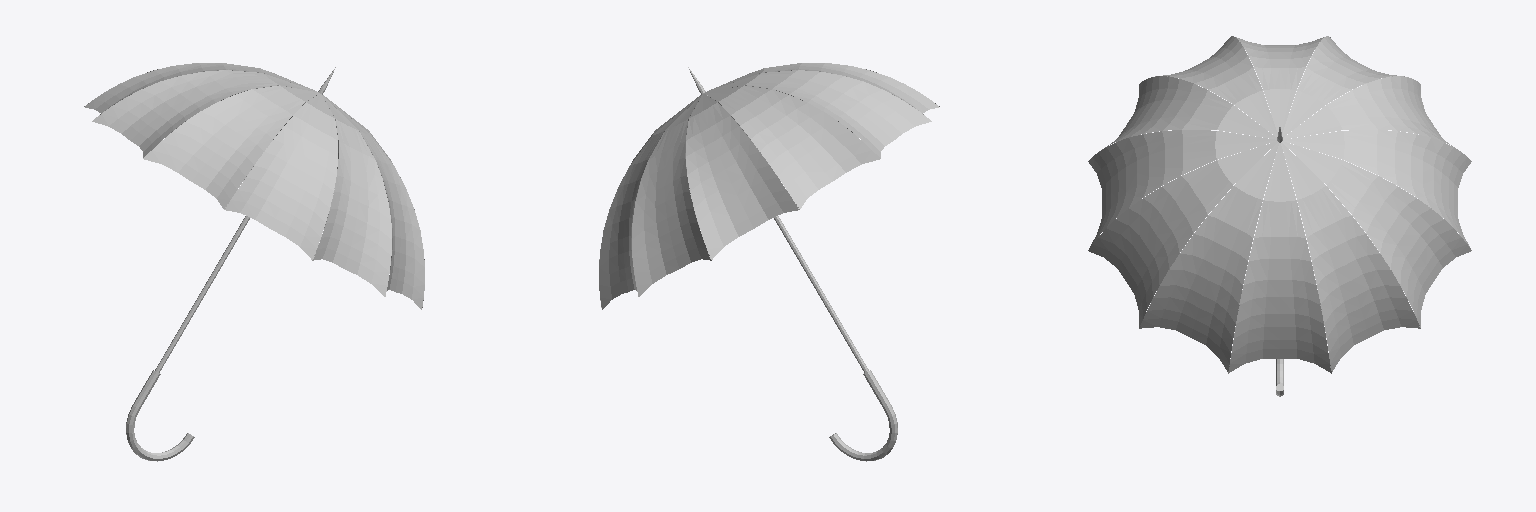
The model's file is Guarda chuva.obj.
The picture shows the model from 3 angles: view 1: azimuth 30°, elevation 25°; view 2: azimuth 150°, elevation 25°; view 3: azimuth 270°, elevation 25°; orthographic projection.
Parts seen in each view (by area): view 1: Mesh13 Paraguas32_dwg1 Component_6_1 Model, Mesh12 Paraguas32_dwg1 Component_6_1 Model, Mesh14 Paraguas32_dwg1 Component_6_1 Model, Mesh11 Paraguas32_dwg1 Component_6_1 Model, Mesh3 Paraguas32_dwg1 Component_6_1 Model, Mesh10 Paraguas32_dwg1 Component_6_1 Model, Mesh1 Paraguas32_dwg1 Component_6_1 Model, Mesh2 Paraguas32_dwg1 Component_6_1 Model; view 2: Mesh9 Paraguas32_dwg1 Component_6_1 Model, Mesh10 Paraguas32_dwg1 Component_6_1 Model, Mesh8 Paraguas32_dwg1 Component_6_1 Model, Mesh11 Paraguas32_dwg1 Component_6_1 Model, Mesh7 Paraguas32_dwg1 Component_6_1 Model, Mesh12 Paraguas32_dwg1 Component_6_1 Model, Mesh1 Paraguas32_dwg1 Component_6_1 Model, Mesh2 Paraguas32_dwg1 Component_6_1 Model; view 3: Mesh5 Paraguas32_dwg1 Component_6_1 Model, Mesh6 Paraguas32_dwg1 Component_6_1 Model, Mesh4 Paraguas32_dwg1 Component_6_1 Model, Mesh3 Paraguas32_dwg1 Component_6_1 Model, Mesh7 Paraguas32_dwg1 Component_6_1 Model, Mesh14 Paraguas32_dwg1 Component_6_1 Model, Mesh8 Paraguas32_dwg1 Component_6_1 Model, Mesh9 Paraguas32_dwg1 Component_6_1 Model, Mesh13 Paraguas32_dwg1 Component_6_1 Model, Mesh10 Paraguas32_dwg1 Component_6_1 Model, Mesh12 Paraguas32_dwg1 Component_6_1 Model, Mesh11 Paraguas32_dwg1 Component_6_1 Model.
Boxes of the visible parts, x1,y1,x2,y2 form: Mesh13 Paraguas32_dwg1 Component_6_1 Model: [224, 94, 337, 259]; Mesh12 Paraguas32_dwg1 Component_6_1 Model: [143, 85, 319, 208]; Mesh14 Paraguas32_dwg1 Component_6_1 Model: [312, 95, 391, 296]; Mesh11 Paraguas32_dwg1 Component_6_1 Model: [92, 70, 318, 157]; Mesh3 Paraguas32_dwg1 Component_6_1 Model: [323, 95, 424, 309]; Mesh10 Paraguas32_dwg1 Component_6_1 Model: [85, 63, 314, 114]; Mesh1 Paraguas32_dwg1 Component_6_1 Model: [126, 370, 194, 461]; Mesh2 Paraguas32_dwg1 Component_6_1 Model: [155, 67, 335, 372]; Mesh9 Paraguas32_dwg1 Component_6_1 Model: [686, 94, 799, 259]; Mesh10 Paraguas32_dwg1 Component_6_1 Model: [704, 85, 880, 208]; Mesh8 Paraguas32_dwg1 Component_6_1 Model: [632, 95, 711, 296]; Mesh11 Paraguas32_dwg1 Component_6_1 Model: [705, 70, 931, 157]; Mesh7 Paraguas32_dwg1 Component_6_1 Model: [599, 95, 700, 309]; Mesh12 Paraguas32_dwg1 Component_6_1 Model: [709, 63, 938, 114]; Mesh1 Paraguas32_dwg1 Component_6_1 Model: [829, 370, 897, 461]; Mesh2 Paraguas32_dwg1 Component_6_1 Model: [688, 67, 868, 372]; Mesh5 Paraguas32_dwg1 Component_6_1 Model: [1228, 143, 1331, 373]; Mesh6 Paraguas32_dwg1 Component_6_1 Model: [1281, 142, 1420, 371]; Mesh4 Paraguas32_dwg1 Component_6_1 Model: [1139, 142, 1278, 371]; Mesh3 Paraguas32_dwg1 Component_6_1 Model: [1088, 141, 1277, 327]; Mesh7 Paraguas32_dwg1 Component_6_1 Model: [1282, 141, 1471, 327]; Mesh14 Paraguas32_dwg1 Component_6_1 Model: [1088, 130, 1276, 246]; Mesh8 Paraguas32_dwg1 Component_6_1 Model: [1283, 130, 1471, 246]; Mesh9 Paraguas32_dwg1 Component_6_1 Model: [1283, 76, 1460, 151]; Mesh13 Paraguas32_dwg1 Component_6_1 Model: [1099, 76, 1276, 151]; Mesh10 Paraguas32_dwg1 Component_6_1 Model: [1282, 36, 1404, 137]; Mesh12 Paraguas32_dwg1 Component_6_1 Model: [1155, 36, 1277, 137]; Mesh11 Paraguas32_dwg1 Component_6_1 Model: [1236, 37, 1330, 132].
Size of the model in its own units: 0.7929 by 0.9939 by 0.9521.